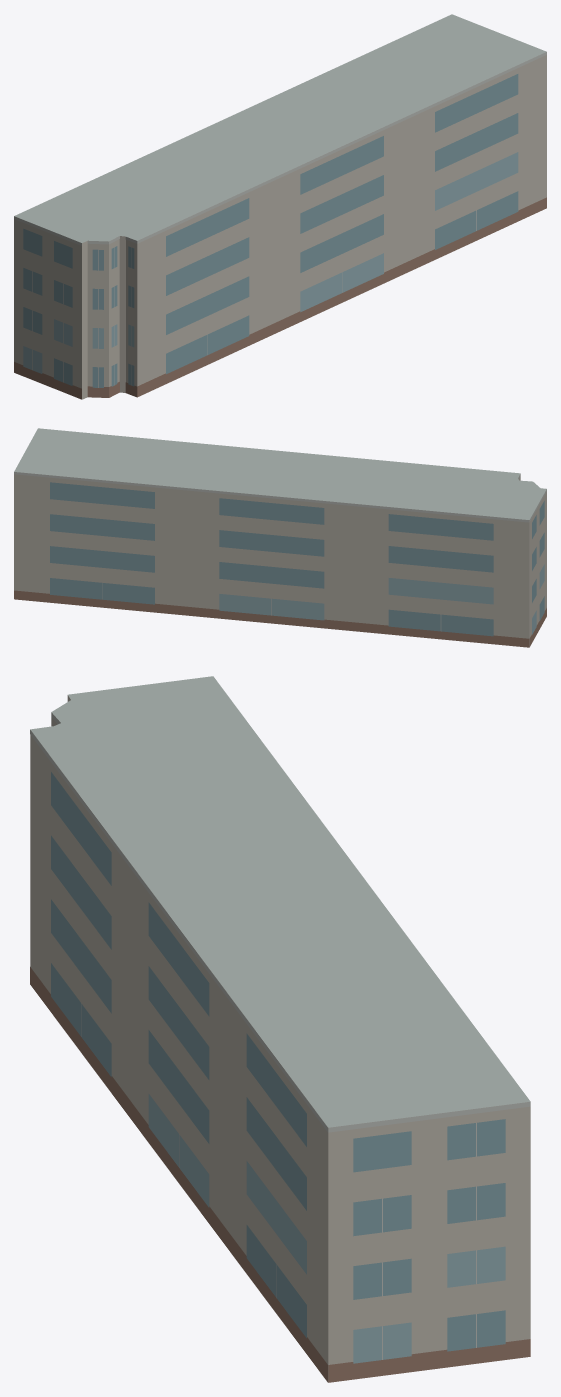
Rendered from survey-upis-32622836.glb.
3 views of the same model, one above another, from view 1: azimuth 30°, elevation 25°; view 2: azimuth 150°, elevation 25°; view 3: azimuth 270°, elevation 25° (orthographic). The views are drawn at different scales.
Visible parts, largest first — view 1: survey-upis-32622836.tmp; view 2: survey-upis-32622836.tmp; view 3: survey-upis-32622836.tmp.
Part boxes in pixels (box(x1,y1,x2,y2)): survey-upis-32622836.tmp: box(14, 14, 546, 399); survey-upis-32622836.tmp: box(14, 428, 546, 647); survey-upis-32622836.tmp: box(30, 676, 530, 1382).
Size of the model in its own units: 48.63 by 12.8 by 22.78.
